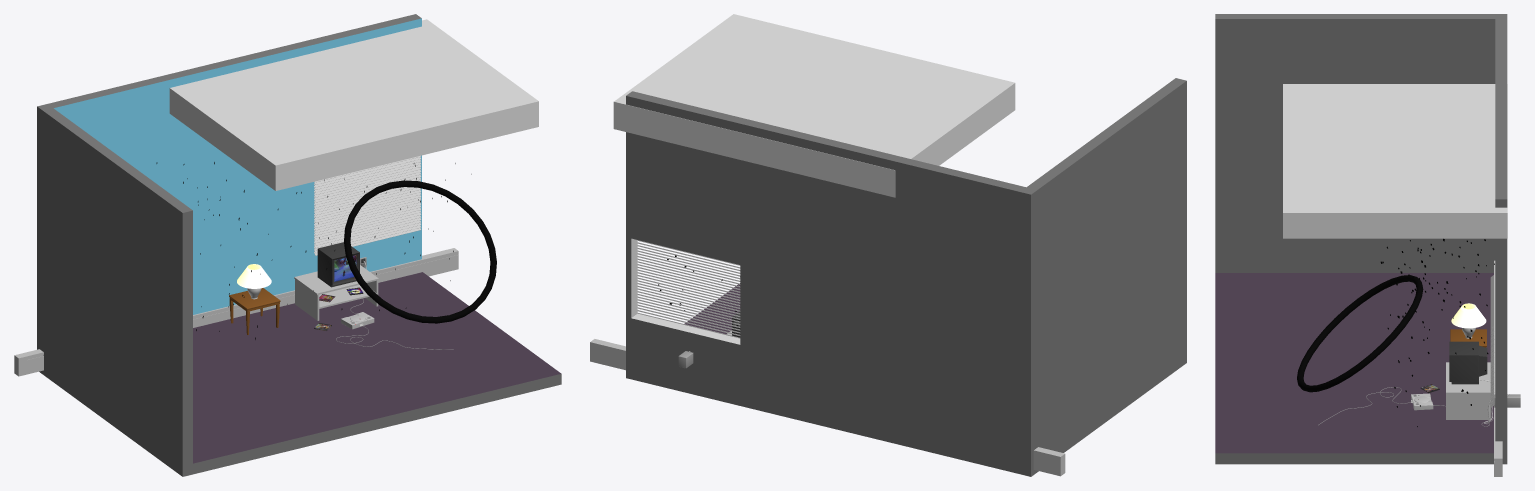
Rendered from ps1 retro3.fbx.
3 renders of one model, left to right at view 1: azimuth 30°, elevation 25°; view 2: azimuth 150°, elevation 25°; view 3: azimuth 270°, elevation 25°, orthographic. The views are drawn at different scales.
Parts seen in each view (by area): view 1: Cube_2_2, Cube_3, kerkere, Torus, Cube_1_6, tv, Cube_1_5, abajor, Cube_2_6, Cube_2_4; view 2: Cube_2_2, Cube_3, kerkere, Cube_1_6, window; view 3: Cube_2_2, Cube_3, Torus, tv, Cube_3_5, abajor, Cube_1_5, Cube_1_6, kerkere, Cube_2_4, particels.
Boxes of the visible parts, left/top/right/bottom form: Cube_2_2: left=37, top=14, right=561, bottom=476; Cube_3: left=169, top=19, right=538, bottom=190; kerkere: left=314, top=155, right=421, bottom=255; Torus: left=344, top=180, right=496, bottom=323; Cube_1_6: left=14, top=248, right=458, bottom=376; tv: left=317, top=242, right=359, bottom=287; Cube_1_5: left=294, top=265, right=378, bottom=294; abajor: left=237, top=264, right=271, bottom=299; Cube_2_6: left=295, top=279, right=319, bottom=320; Cube_2_4: left=229, top=288, right=280, bottom=309; Cube_2_2: left=626, top=78, right=1186, bottom=476; Cube_3: left=613, top=14, right=1015, bottom=197; kerkere: left=637, top=240, right=740, bottom=338; Cube_1_6: left=590, top=339, right=1065, bottom=476; window: left=631, top=238, right=740, bottom=344; Cube_2_2: left=1215, top=14, right=1507, bottom=464; Cube_3: left=1283, top=84, right=1507, bottom=238; Torus: left=1297, top=275, right=1423, bottom=392; tv: left=1449, top=341, right=1487, bottom=384; Cube_3_5: left=1446, top=394, right=1491, bottom=419; abajor: left=1451, top=303, right=1486, bottom=338; Cube_1_5: left=1446, top=362, right=1490, bottom=394; Cube_1_6: left=1494, top=260, right=1502, bottom=476; kerkere: left=1490, top=275, right=1494, bottom=407; Cube_2_4: left=1450, top=329, right=1486, bottom=346; particels: left=1380, top=238, right=1494, bottom=426.
Bounding box in the file's own units: 1455 × 834 × 872.
Materials: 21 (5 with a texture image).
